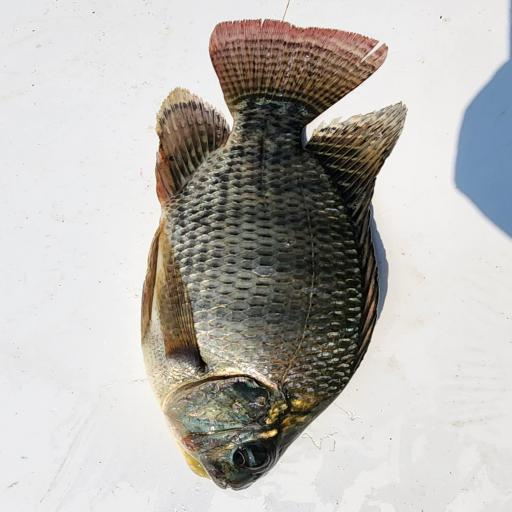Tilapia: (141, 19, 409, 491)
